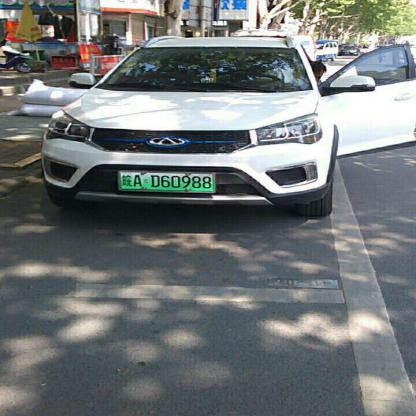lp: (120, 172, 213, 190)
